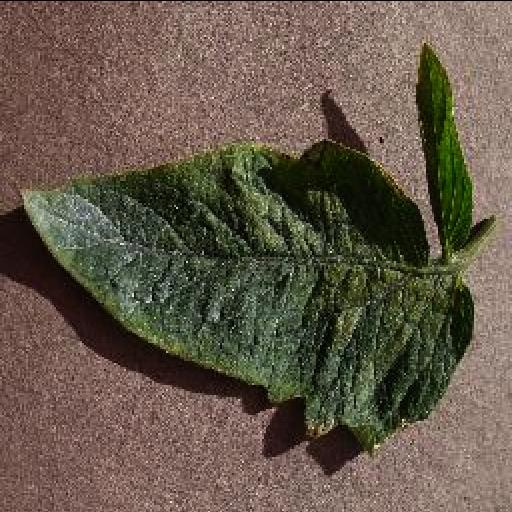disease_tomato: (20, 143, 474, 461)
